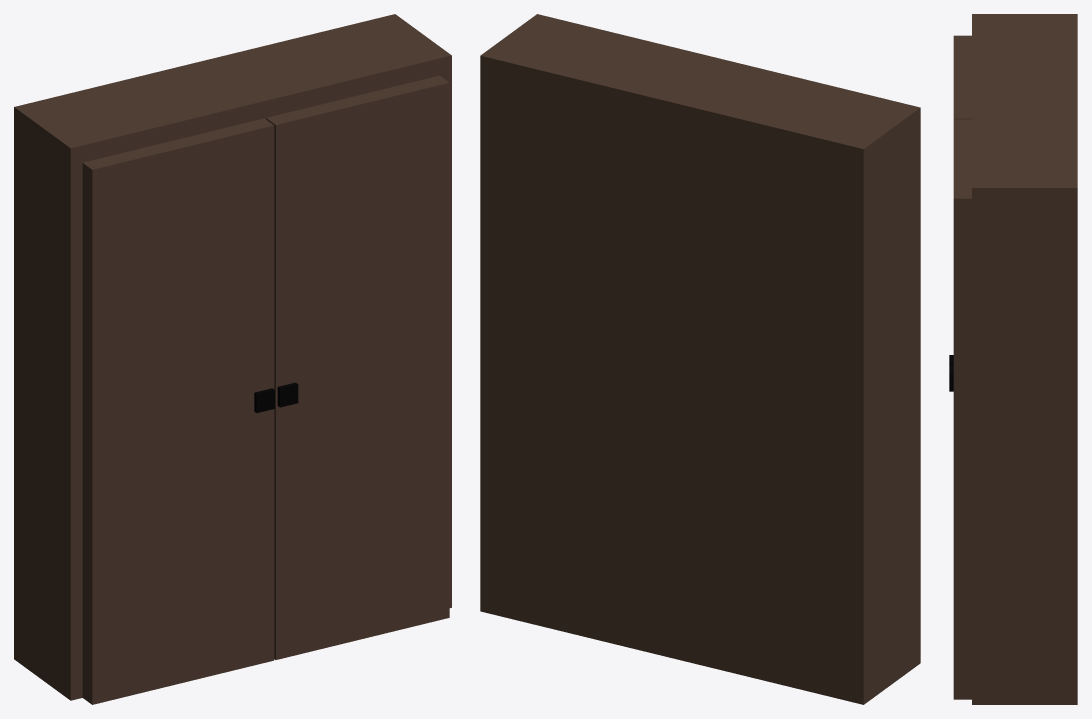
File: wardrobe.fbx
The picture shows the model from 3 angles, left to right: view 1: azimuth 30°, elevation 25°; view 2: azimuth 150°, elevation 25°; view 3: azimuth 270°, elevation 25°; orthographic projection. The views are drawn at different scales.
Visible parts, largest first — view 1: Cube.002; view 2: Cube.002; view 3: Cube.002.
Part boxes in pixels (x1,y1,x2,y2): Cube.002: (14,14,451,704); Cube.002: (480,14,920,704); Cube.002: (949,14,1077,704).
Bounding box in the file's own units: 778 × 1077 × 243.
